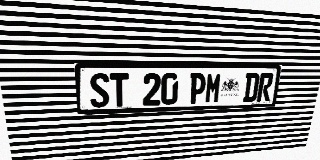0: (160, 73, 179, 105)
2: (143, 73, 161, 106)
D: (242, 73, 260, 102)
M: (204, 73, 222, 103)
P: (188, 73, 206, 104)
R: (256, 73, 274, 102)
S: (89, 73, 110, 108)
T: (110, 73, 129, 107)
